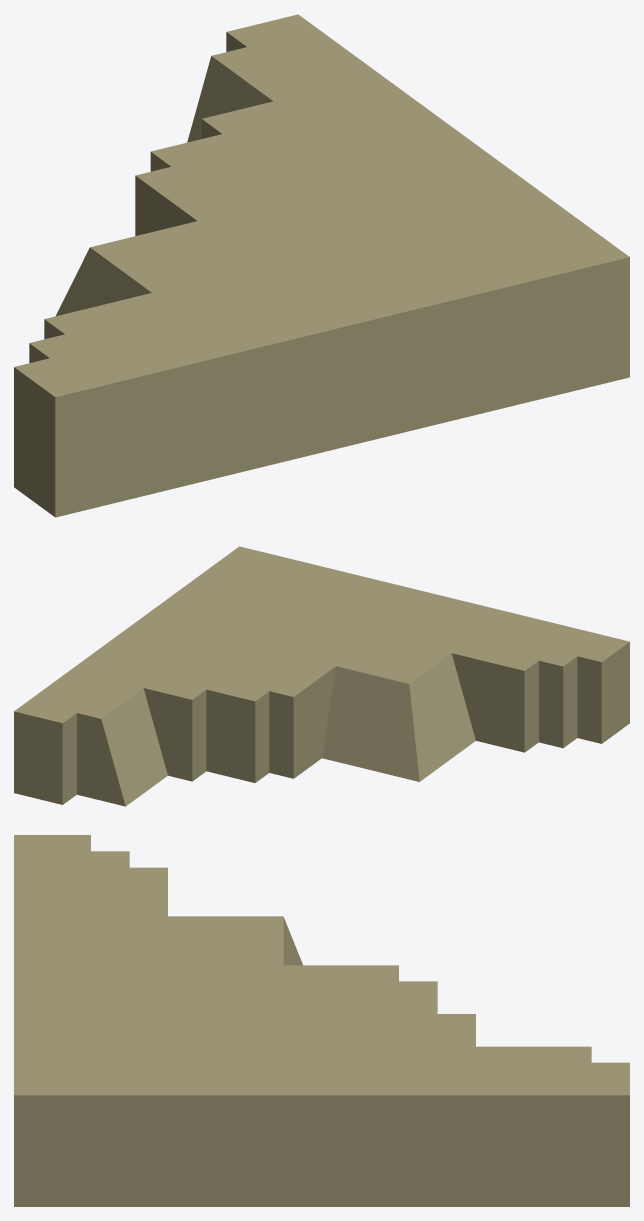
File: Electric.Piece.04.fbx
The picture shows the model from 3 angles, top to bottom: view 1: azimuth 30°, elevation 25°; view 2: azimuth 150°, elevation 25°; view 3: azimuth 270°, elevation 25°; orthographic projection. The views are drawn at different scales.
Parts seen in each view (by area): view 1: Elec.Piece.04; view 2: Elec.Piece.04; view 3: Elec.Piece.04.
Part boxes in pixels (box(x1,y1,x2,y2)): Elec.Piece.04: box(14, 14, 629, 517); Elec.Piece.04: box(14, 546, 629, 806); Elec.Piece.04: box(14, 835, 629, 1206).
Size of the model in its own units: 200 by 40 by 200.
